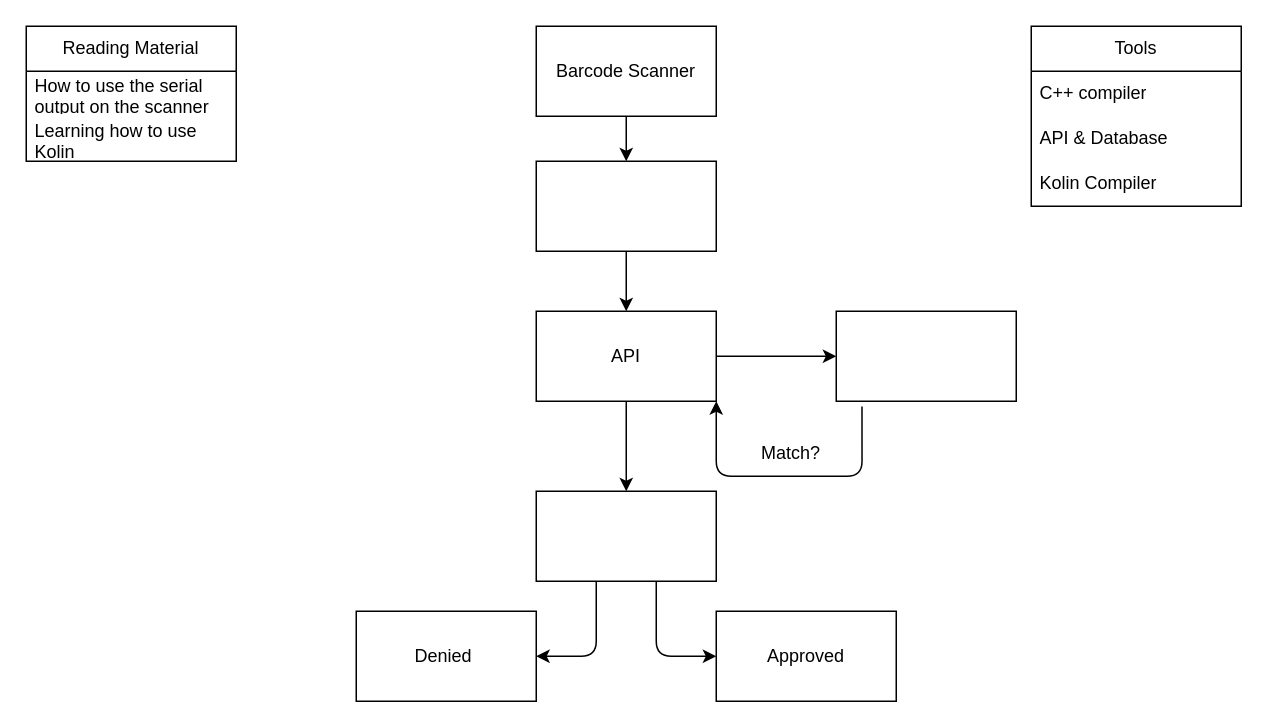
This 1268x728 diagram has some shape labels left out. Each missing label, with the centre of its shape:
C++ serial output: point (625, 205)
Database: point (925, 355)
Tablet: point (625, 535)
